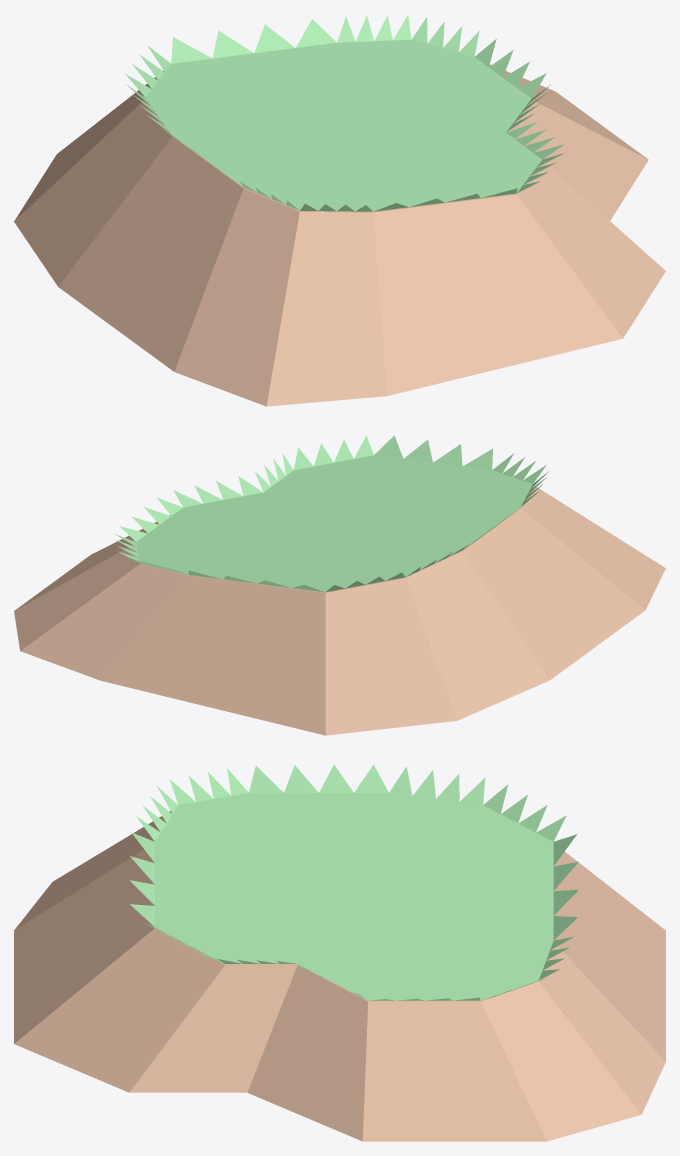
The model's file is simple_island_4.glb.
3 views of the same model, one above another, from view 1: azimuth 30°, elevation 25°; view 2: azimuth 150°, elevation 25°; view 3: azimuth 270°, elevation 25° (orthographic). The views are drawn at different scales.
Parts seen in each view (by area): view 1: ND — Sketch.003; view 2: ND — Sketch.003; view 3: ND — Sketch.003.
Boxes of the visible parts, x1,y1,x2,y2 form: ND — Sketch.003: [14, 15, 665, 406]; ND — Sketch.003: [14, 435, 665, 735]; ND — Sketch.003: [14, 765, 665, 1141].
Size of what is drawn, in the model's own units: 25.22 by 6.15 by 25.18.
